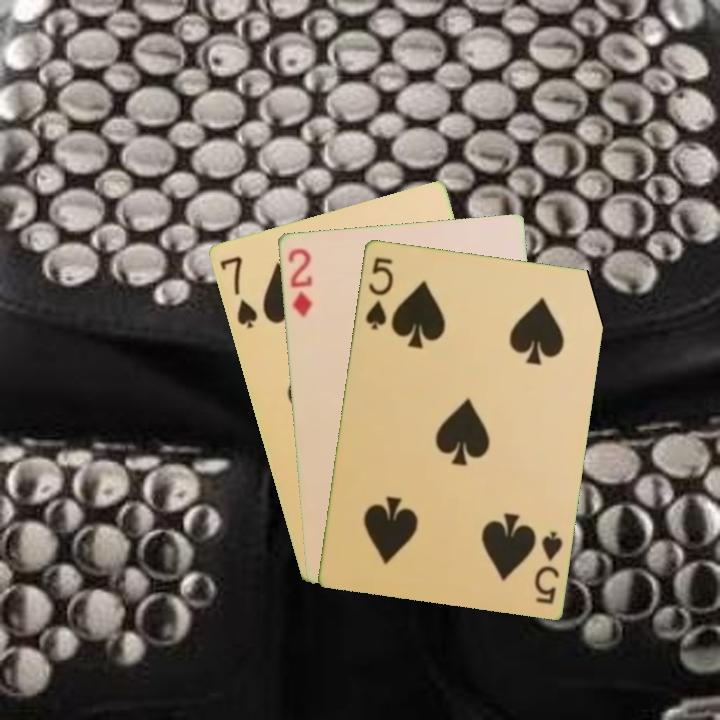2d: (284, 244, 315, 320)
5s: (530, 527, 565, 607), (361, 253, 396, 332)
7s: (216, 252, 260, 331)
